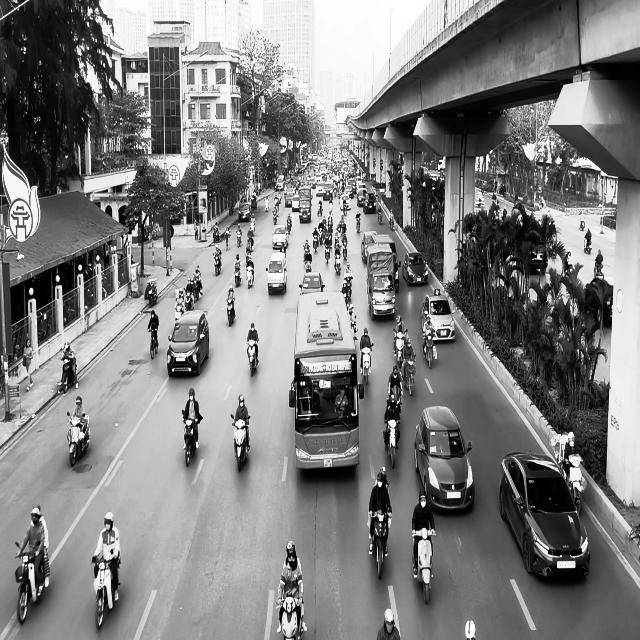bus: (288, 290, 361, 470)
car: (498, 452, 590, 579), (414, 405, 474, 512), (167, 311, 210, 377), (421, 292, 455, 341), (368, 270, 396, 320), (265, 251, 287, 295), (402, 251, 428, 285), (298, 272, 324, 295), (529, 243, 548, 274), (361, 231, 376, 263), (272, 225, 288, 250), (238, 202, 252, 221)
motorbike: (14, 540, 50, 624), (91, 552, 120, 630), (412, 527, 436, 604), (368, 510, 392, 579), (66, 411, 90, 467), (277, 592, 303, 639), (230, 413, 250, 472), (182, 412, 202, 466), (383, 418, 400, 469), (58, 356, 78, 394), (402, 355, 416, 396), (360, 343, 373, 385), (422, 334, 437, 369), (246, 339, 259, 376), (148, 327, 158, 359), (146, 280, 158, 306), (226, 297, 236, 326), (246, 260, 254, 288), (213, 251, 221, 276), (594, 258, 604, 278), (234, 265, 241, 287), (584, 237, 591, 254), (236, 230, 242, 247)
